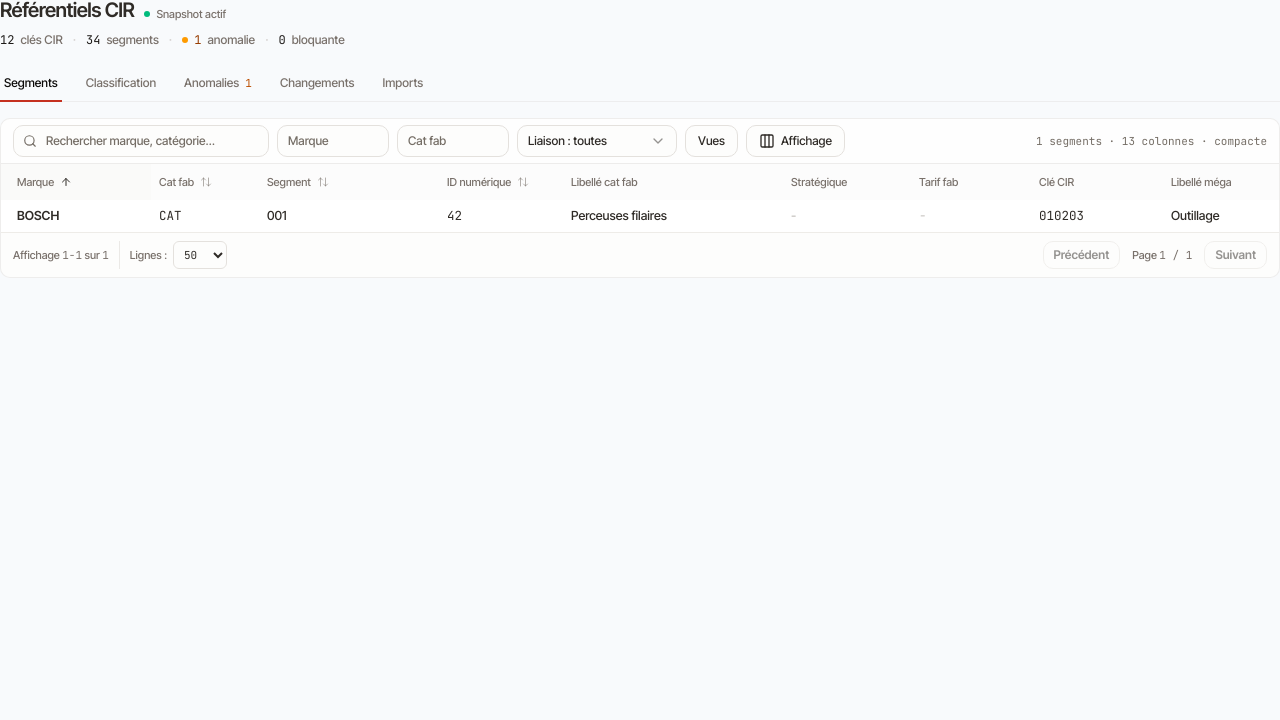
PricingReferencesPage › combines facet filters and forwards them to the summary and list queries
The width and height of the screenshot is (1280, 720).
What coordinates should you click on to do the following:
click the tab "Anomalies 1"
I would click on:
 (218, 83)
Its box is top-left (180, 65), bottom-right (256, 101).
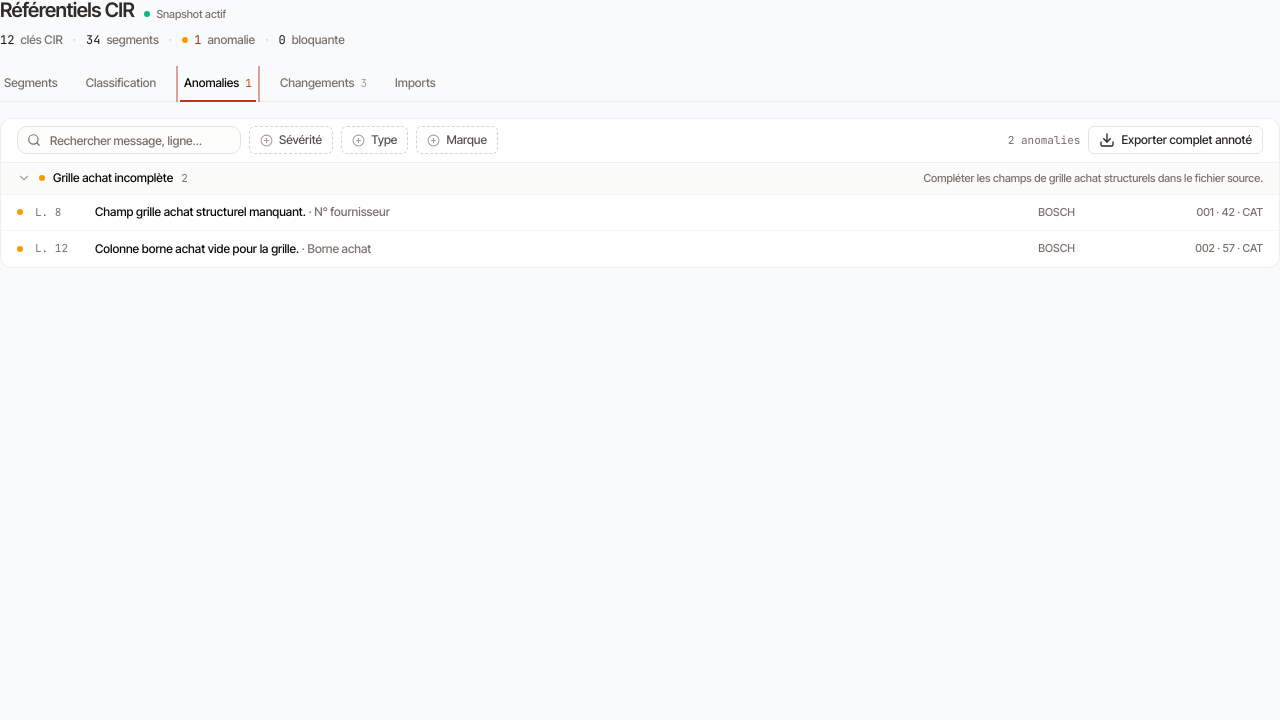
Expected: the button with aria-label "ligne 8" is shown, top-left (1, 195), bottom-right (1279, 231)
What coordinates should you click on to do the following:
click the button "Sévérité"
I would click on:
 (291, 140)
Its box is top-left (249, 126), bottom-right (333, 154).
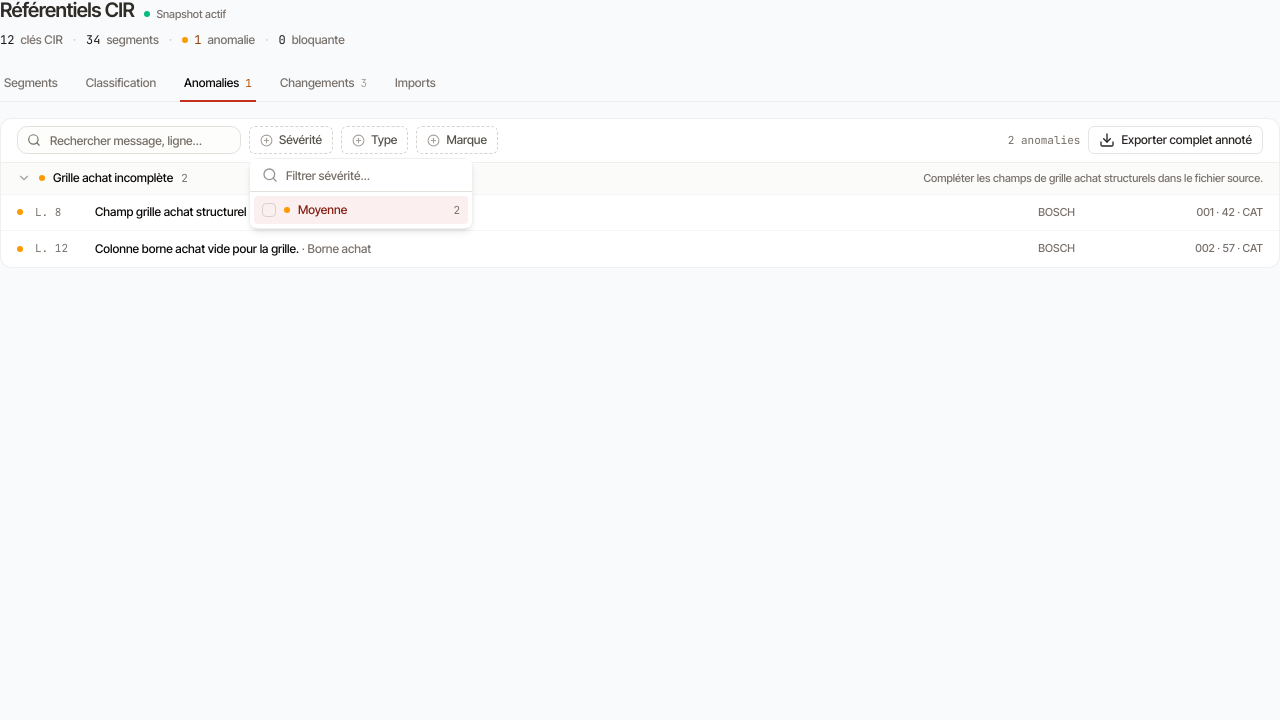
What coordinates should you click on to do the following:
click the option "Moyenne 2"
I would click on:
 (361, 210)
Its box is top-left (254, 196), bottom-right (468, 224).
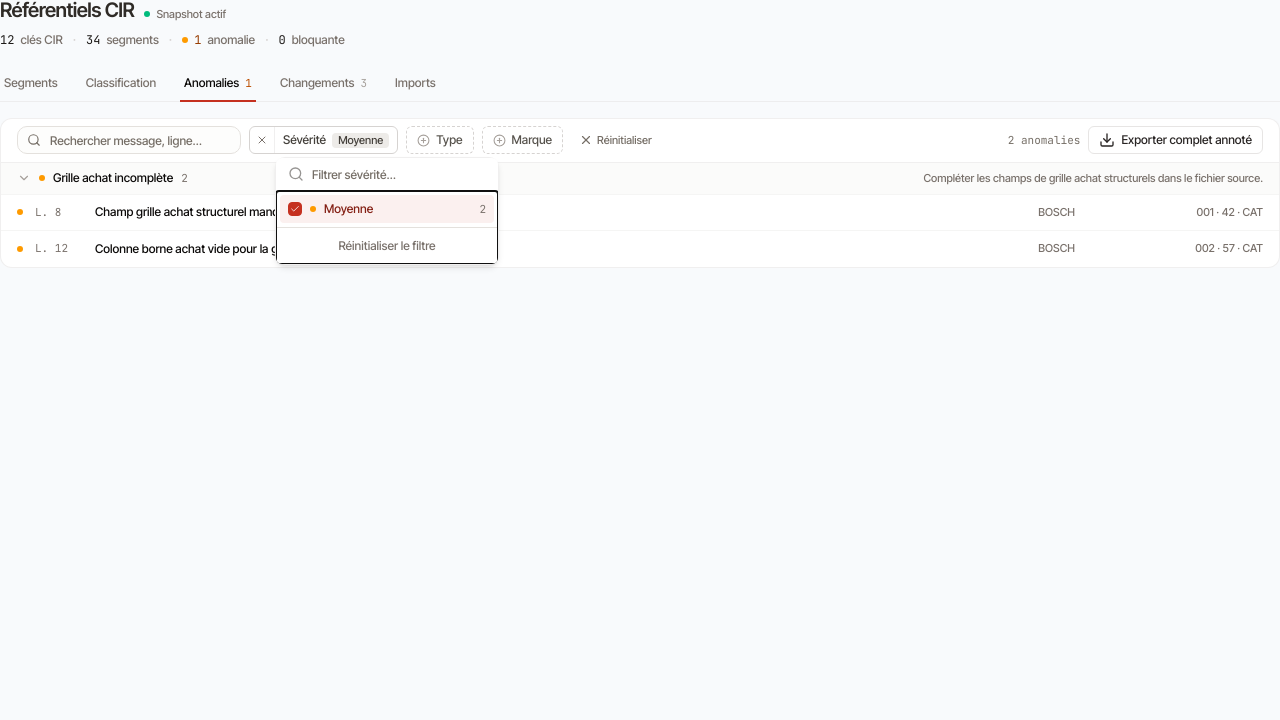
Expected: the button named "réinitialiser le filtre sévérité" is shown, top-left (250, 127), bottom-right (275, 153)
